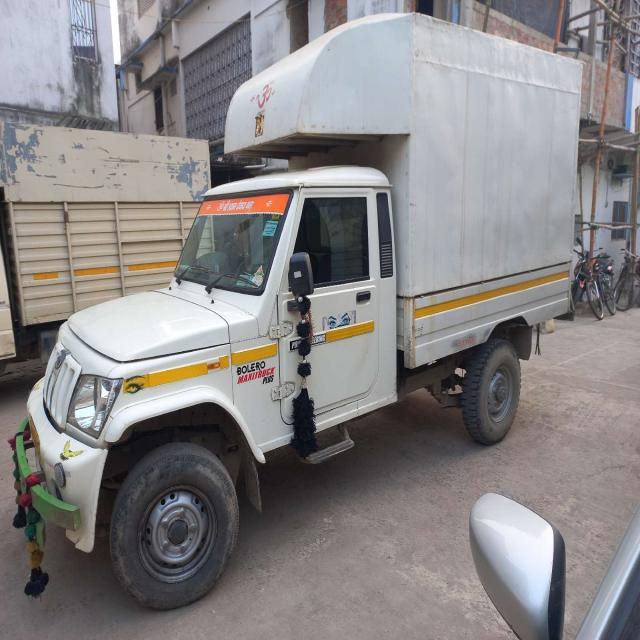light_vehicle: (20, 145, 577, 542)
